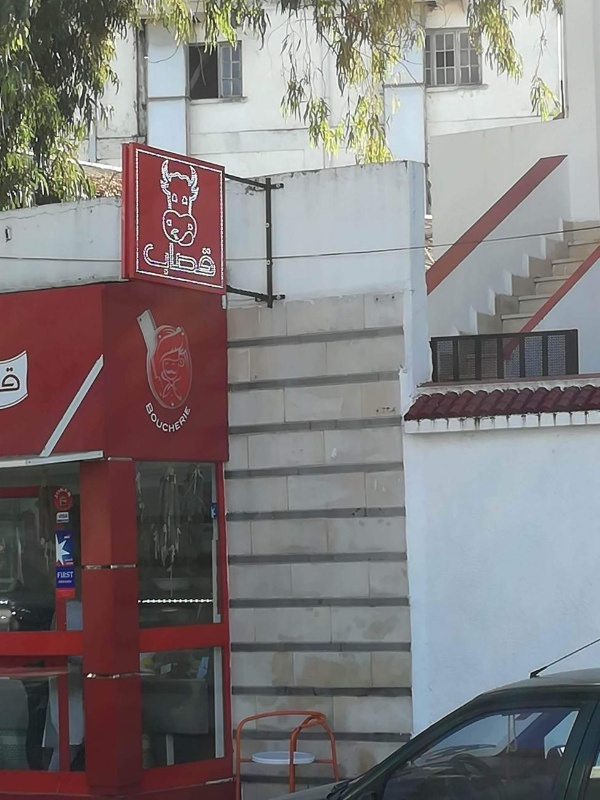text: (145, 239, 160, 283), (161, 239, 176, 283), (177, 239, 192, 283), (193, 239, 208, 283), (145, 402, 160, 434), (161, 402, 176, 434), (177, 402, 192, 434), (1, 364, 16, 395), (209, 239, 218, 283), (17, 364, 24, 395), (52, 487, 64, 501), (65, 570, 75, 585), (141, 239, 144, 283), (65, 487, 74, 501), (56, 570, 64, 585), (58, 514, 64, 519), (65, 514, 68, 519)
